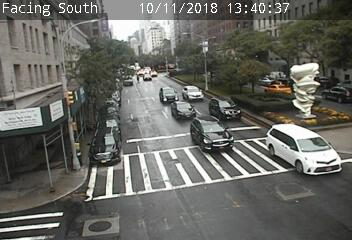car: (266, 124, 341, 177), (190, 116, 233, 153), (89, 128, 120, 163), (209, 97, 239, 121), (321, 86, 352, 103), (171, 100, 195, 119), (160, 86, 178, 104), (264, 84, 291, 96), (182, 86, 203, 101), (255, 76, 275, 85)
